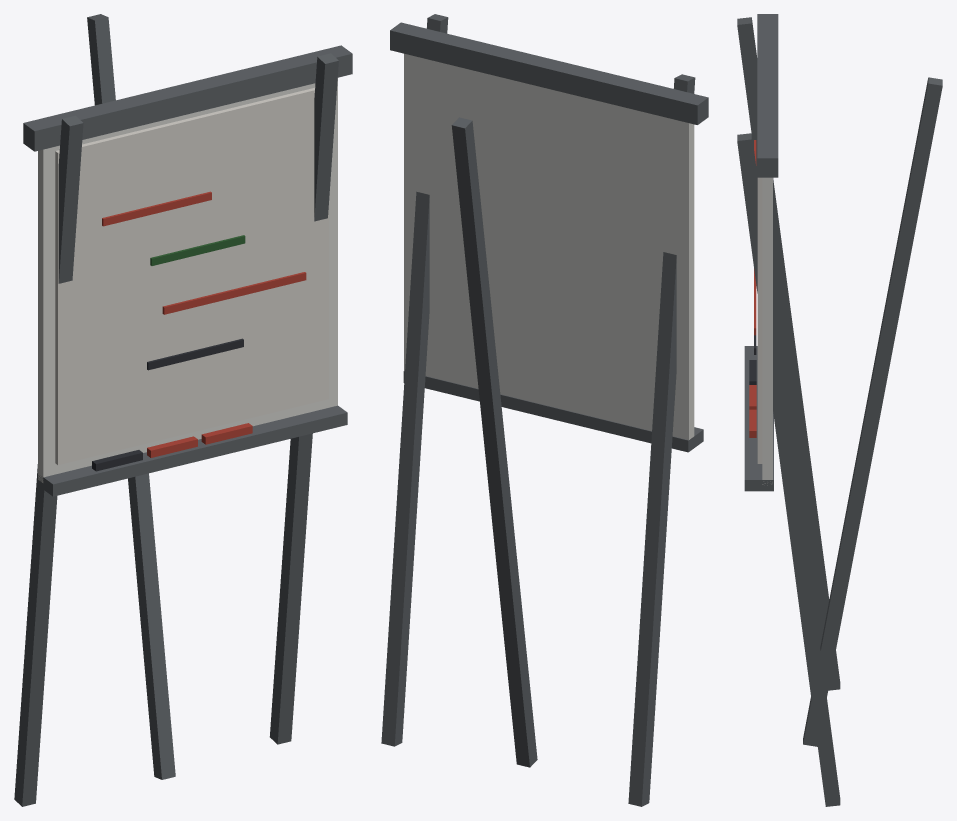
File: whiteboard-13.glb
3 renders of one model, left to right at view 1: azimuth 30°, elevation 25°; view 2: azimuth 150°, elevation 25°; view 3: azimuth 270°, elevation 25°, orthographic. The views are drawn at different scales.
Visible parts, largest first — view 1: whiteboard_13; view 2: whiteboard_13; view 3: whiteboard_13.
Boxes of the visible parts, x1,y1,x2,y2 form: whiteboard_13: (14,14,352,806); whiteboard_13: (381,14,708,806); whiteboard_13: (737,14,942,806).
Size of the model in its own units: 0.8125 by 1.75 by 0.4887.
